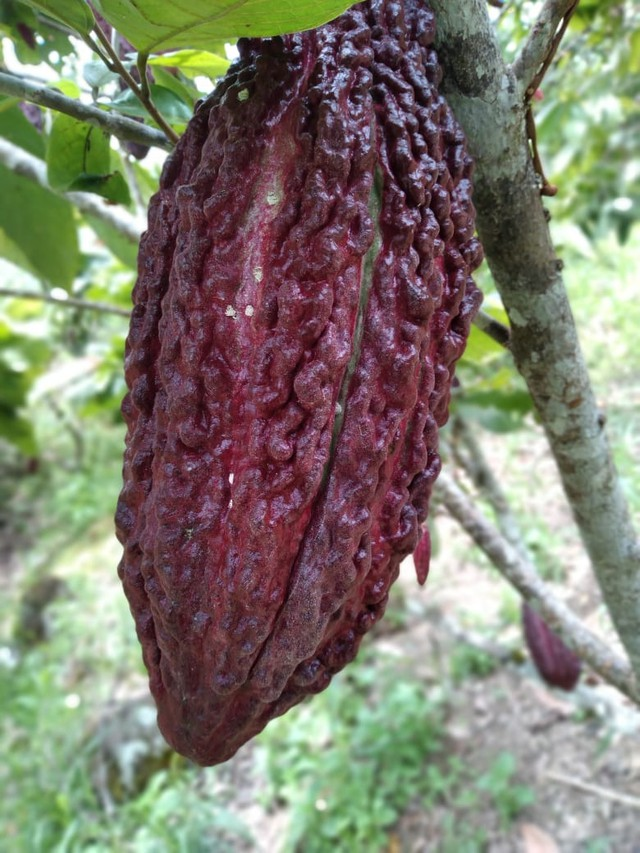Health: (111, 1, 489, 768)
